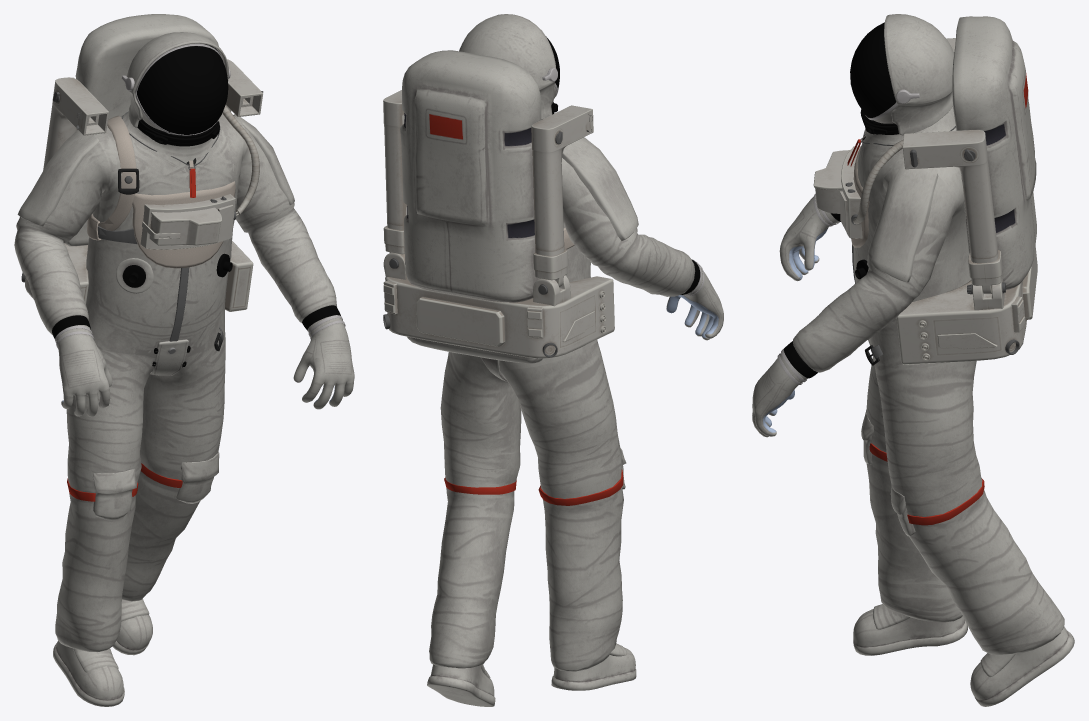
The model's file is astronaut_static.glb.
The picture shows the model from 3 angles, left to right: view 1: azimuth 30°, elevation 25°; view 2: azimuth 150°, elevation 25°; view 3: azimuth 270°, elevation 25°; orthographic projection. The views are drawn at different scales.
Visible parts, largest first — view 1: Object_99; view 2: Object_99; view 3: Object_99.
Boxes of the visible parts, x1,y1,x2,y2 form: Object_99: (14,14,354,706); Object_99: (383,14,723,706); Object_99: (752,14,1074,706).
Size of the model in its own units: 1.44 by 3.19 by 1.36.
2 materials, 2 textured.
